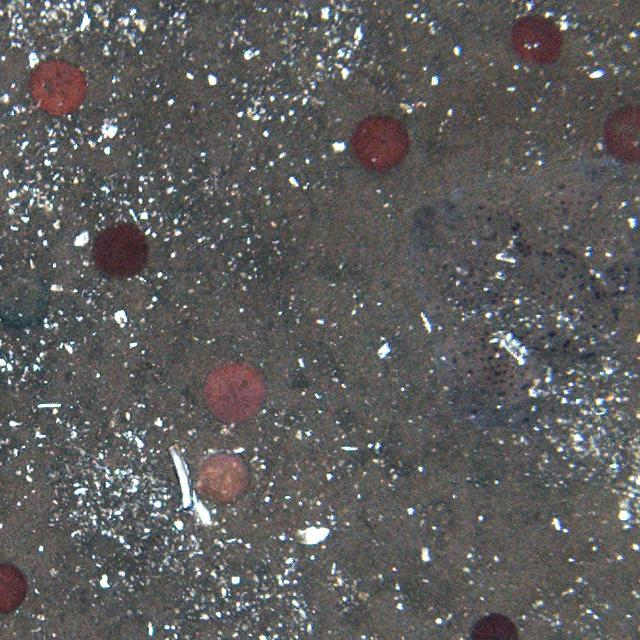skate: (413, 154, 637, 404)
